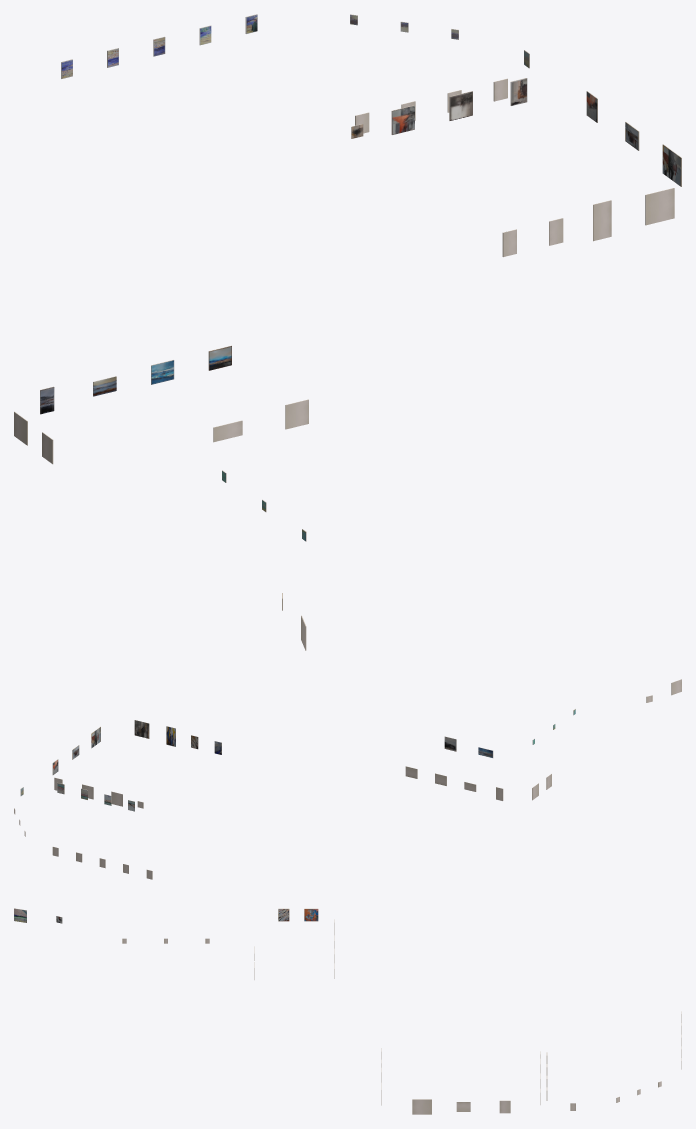
The model's file is artPaintings.glb.
3 views of the same model, one above another, from view 1: azimuth 30°, elevation 25°; view 2: azimuth 150°, elevation 25°; view 3: azimuth 270°, elevation 25° (orthographic). The views are drawn at different scales.
Parts seen in each view (by area): view 1: baur; view 2: no part large enough to name; view 3: no part large enough to name.
Boxes of the visible parts, left/top/right/bottom form: baur: left=645, top=188, right=674, bottom=225.
Size of the model in its own units: 32.9 by 1.5 by 48.25.
38 materials, 38 textured.
